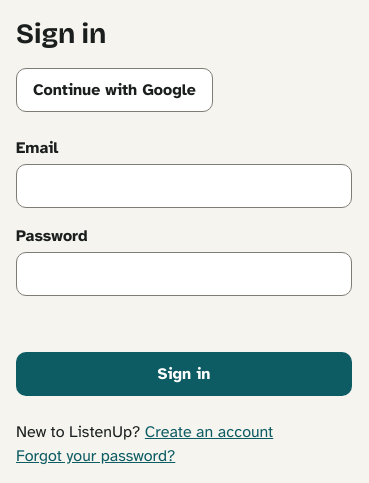
Test case: the sign-in page links to the reset request
Click the link "Forgot your password?". click: (96, 456)
box: [16, 446, 175, 466]
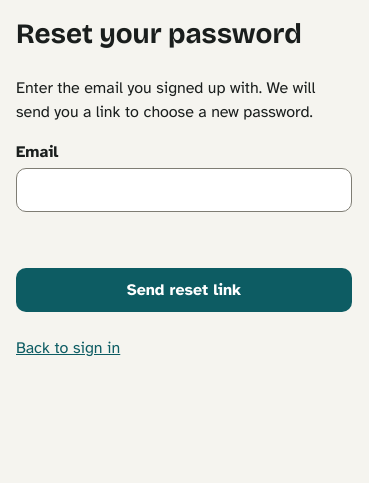
Expected: the heading "Reset your password" is shown, [16, 16, 352, 52]
